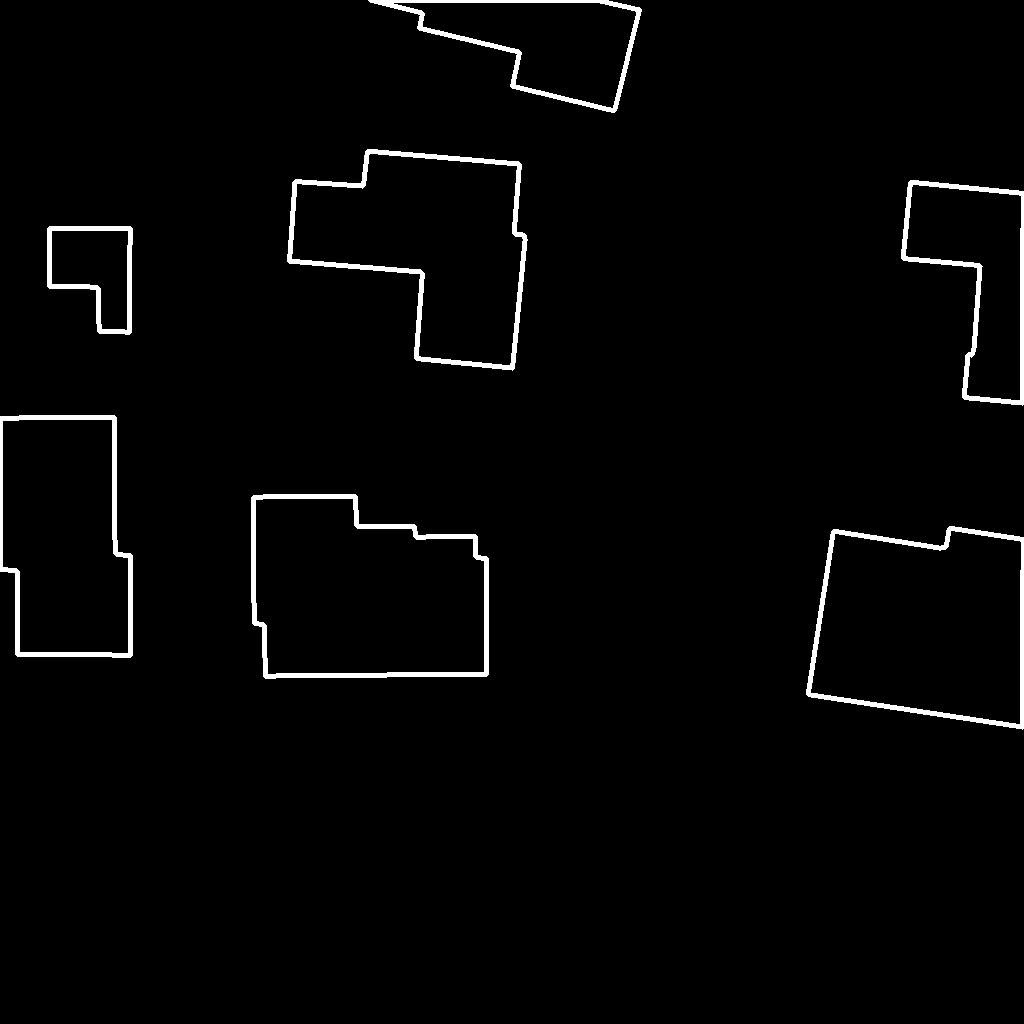building: (289, 151, 526, 369), (808, 528, 1024, 728), (253, 496, 488, 677), (0, 417, 132, 656), (368, 0, 641, 112), (903, 182, 1024, 404), (49, 228, 131, 333)
